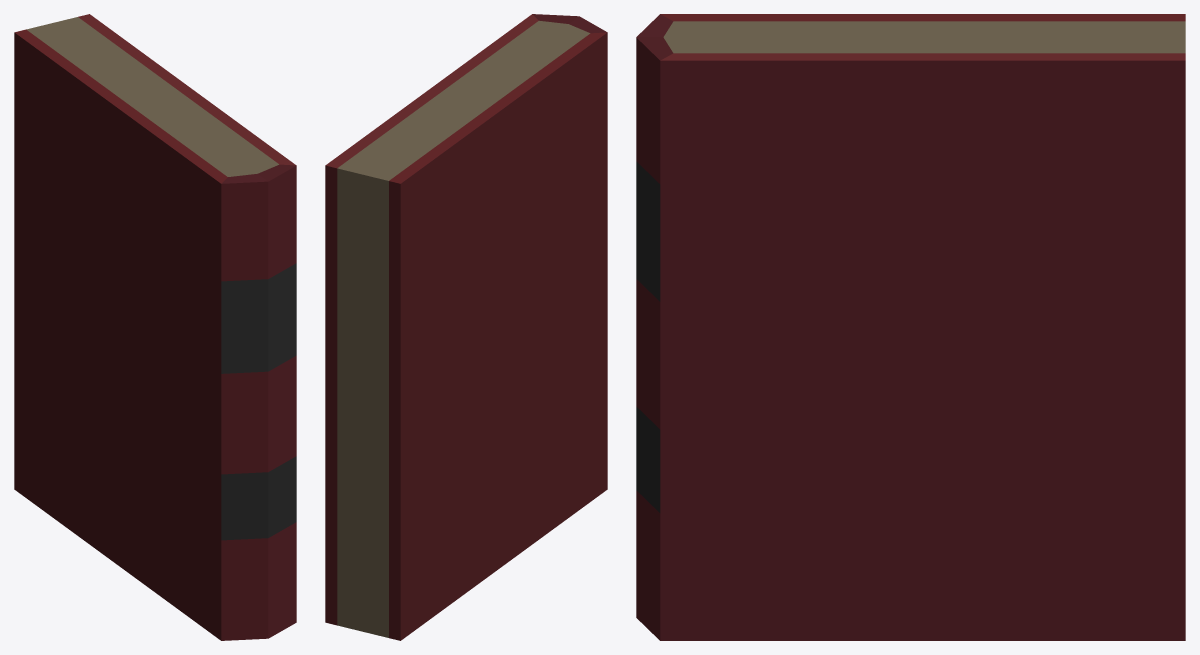
Rendered from Prop_BookD.fbx.
3 views of the same model, side by side, from view 1: azimuth 30°, elevation 25°; view 2: azimuth 150°, elevation 25°; view 3: azimuth 270°, elevation 25° (orthographic). The views are drawn at different scales.
Parts seen in each view (by area): view 1: Prop_BookD; view 2: Prop_BookD; view 3: Prop_BookD.
Part boxes in pixels (x1=…): Prop_BookD: x1=14, y1=14, x2=296, y2=640; Prop_BookD: x1=325, y1=14, x2=607, y2=640; Prop_BookD: x1=636, y1=14, x2=1185, y2=640.
Size of the model in its own units: 4.47 by 25.92 by 22.25.
